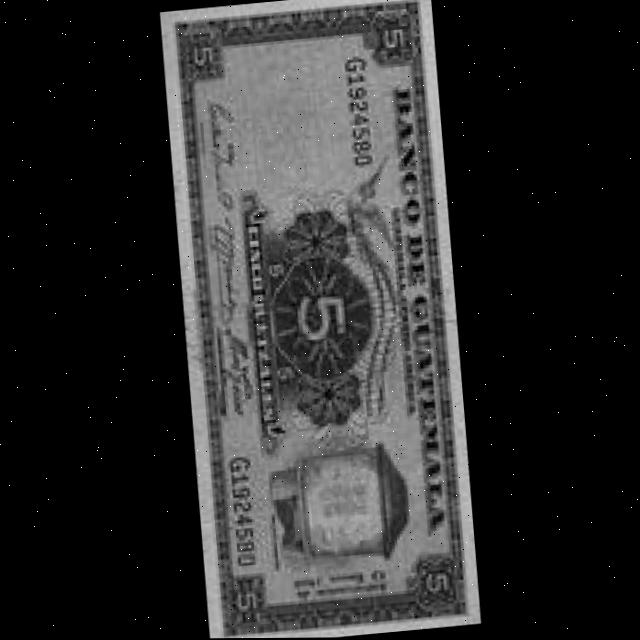banknote: (157, 0, 487, 639)
